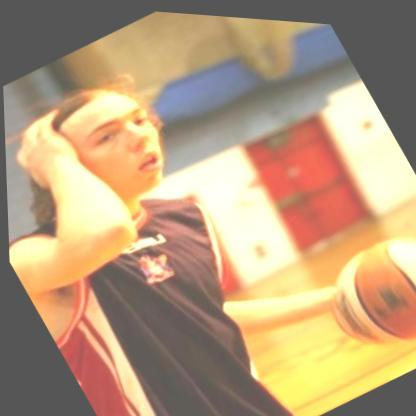basketball: (304, 199, 416, 366)
